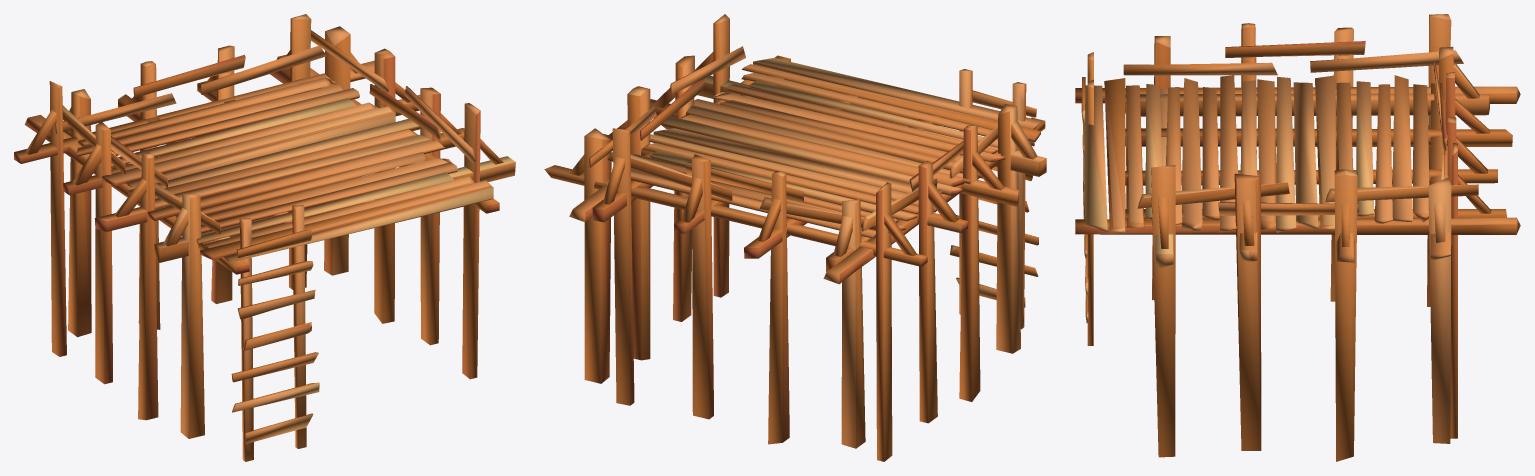
The model's file is GL-Manmade-03.fbx.
3 renders of one model, left to right at view 1: azimuth 30°, elevation 25°; view 2: azimuth 150°, elevation 25°; view 3: azimuth 270°, elevation 25°, orthographic. The views are drawn at different scales.
Parts seen in each view (by area): view 1: GL-Manmade-03; view 2: GL-Manmade-03; view 3: GL-Manmade-03.
Part boxes in pixels (left/top/right/bottom): GL-Manmade-03: left=14, top=14, right=515, bottom=461; GL-Manmade-03: left=544, top=14, right=1046, bottom=461; GL-Manmade-03: left=1075, top=14, right=1520, bottom=461.
Size of the model in its own units: 4.43 by 3.06 by 4.2.
